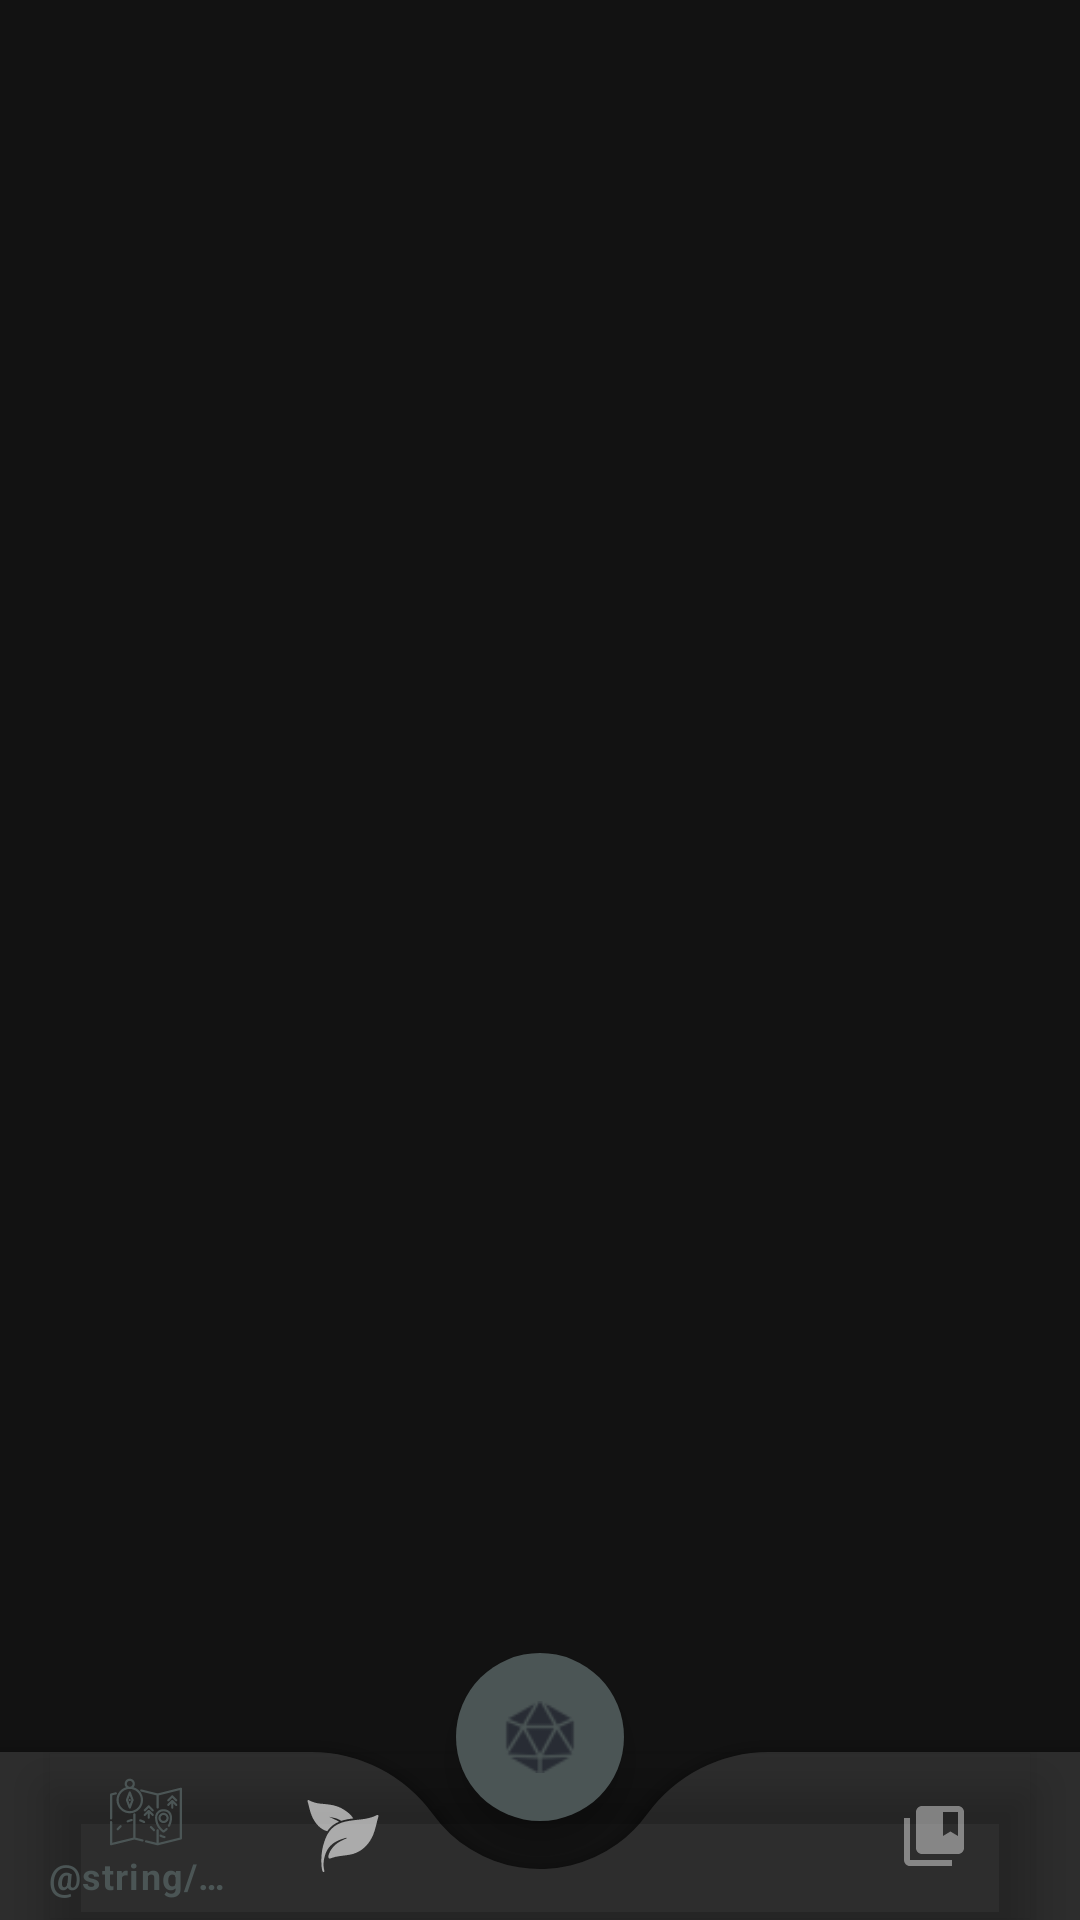

Icon bounding boxes for this 1080px×1920px phone screenshot, format detection(x1, y1, x2, y2):
dice: detection(456, 1668, 624, 1821)
